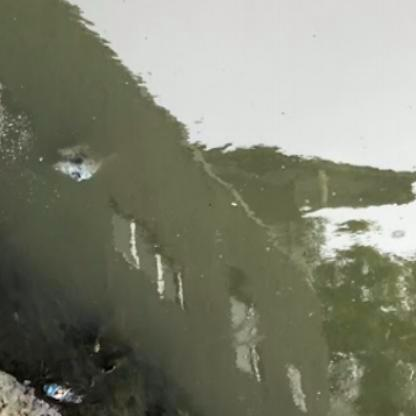Plastic: (42, 378, 83, 410)
